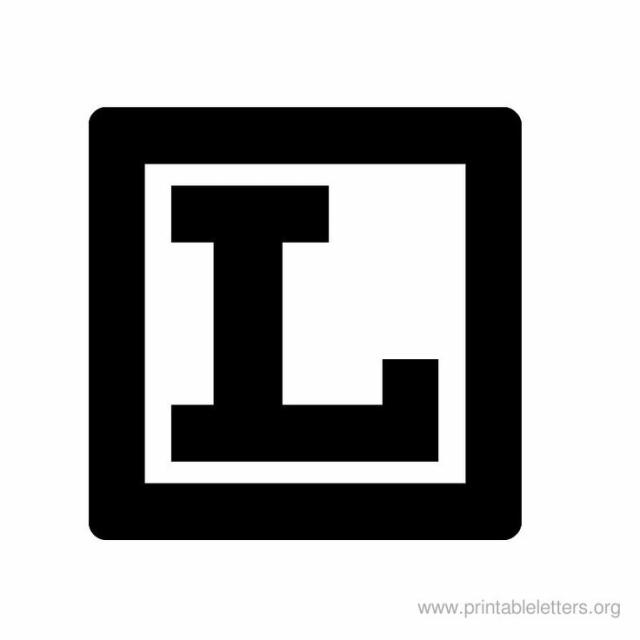L: (161, 171, 462, 475)
